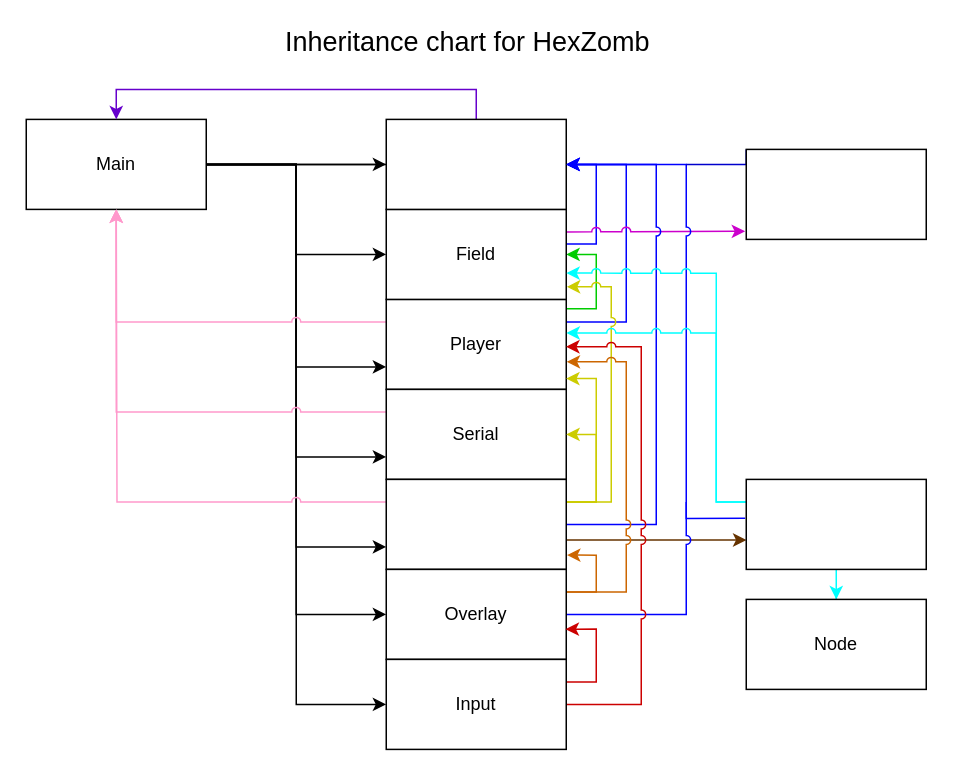
Image size: 953x776. Some labels were removed from this diagram. The centre of each missing label's shape, as x and y in pixels:
"Controller" goes at pixel 475 523.
"Screen" goes at pixel 475 163.
"Tile" goes at pixel 835 193.
"Zombie" goes at pixel 835 523.
